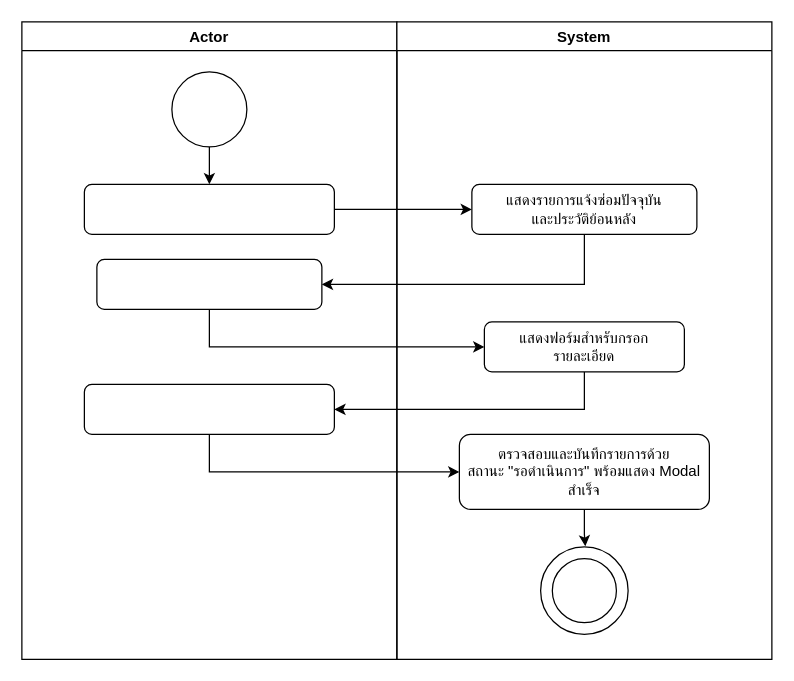
This 794x681 diagram has some shape labels left out. The shapes that lost their labels are listed below. From the top down, each one's centre as x and y in pixels, then its label:
pixel 208 208: เลือกเมนู "แจ้งซ่อม/รายการซ่อม"
pixel 209 283: กดปุ่ม "เพิ่มรายการแจ้งซ่อม"
pixel 208 408: ป้อนข้อมูล (หมวดหมู่, รายละเอียด, รูป) และกดยืนยัน
